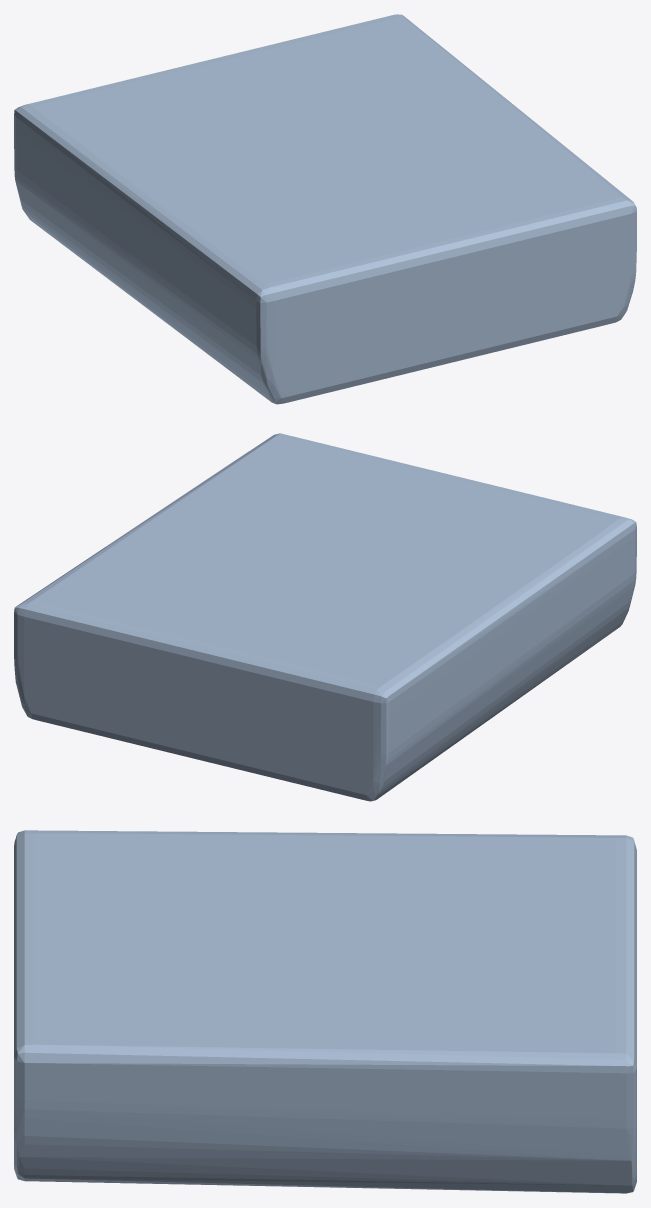
Rendered from left_shoulder_yaw_link_part_6.obj.
The picture shows the model from 3 angles, top to bottom: view 1: azimuth 30°, elevation 25°; view 2: azimuth 150°, elevation 25°; view 3: azimuth 270°, elevation 25°; orthographic projection. The views are drawn at different scales.
Size of the model in its own units: 0.056 by 0.0161 by 0.0627.
